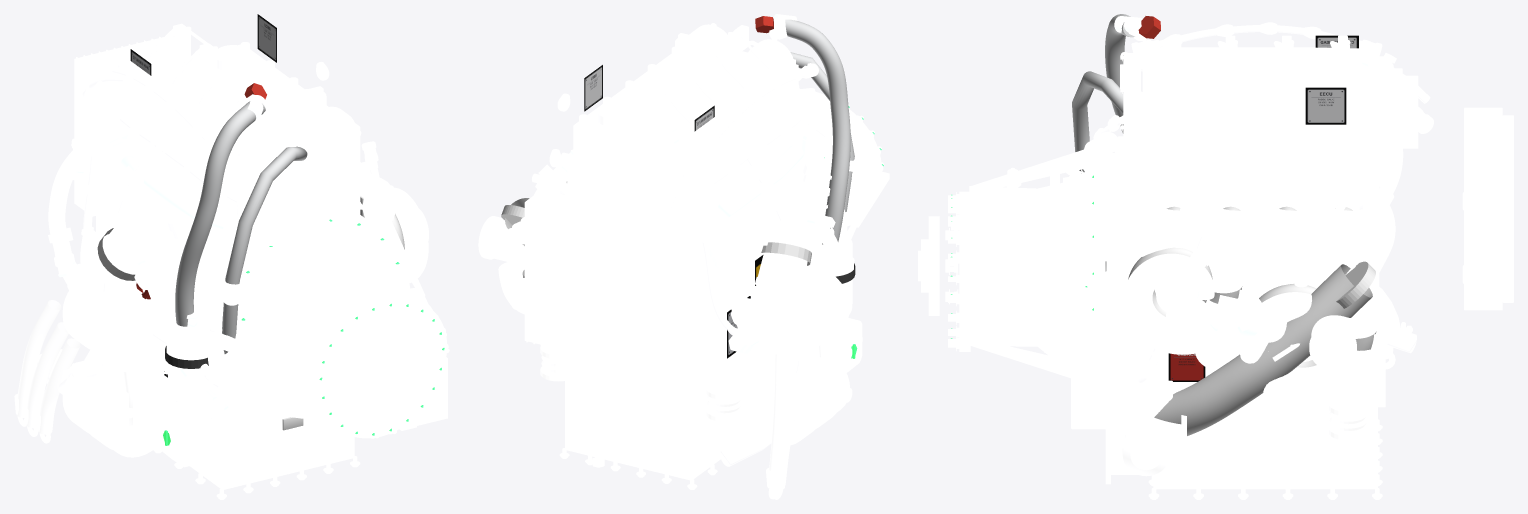
File: vrde_jayem_2_2l.glb
3 renders of one model, left to right at view 1: azimuth 30°, elevation 25°; view 2: azimuth 150°, elevation 25°; view 3: azimuth 270°, elevation 25°, orthographic. The views are drawn at different scales.
Parts seen in each view (by area): view 1: Gearbox_M_CastAluminium_0.001, Timing_Cover_Front_M_CastAluminium_0, Gearbox_FrontCover_M_CastAluminium_0, Valve_Cover_M_PlasticBlack_0.001, Oil_Sump_M_CastAluminium_0.001, Generator_2_M_CastAluminium_0, Generator_1_M_CastAluminium_0.001, Intermediate_Bellhousing_M_CastAluminium_0, Prop_Flange_M_Steel_0.001, Swept_C_Hose_M_BraidedSilver_0.001, Intake_Manifold_M_CastAluminium_0.001, Gearbox_Ribs_M_CastAluminium_0 (+38 smaller); view 2: Oil_Sump_M_CastAluminium_0.001, Engine_Block_M_CastAluminium_0.001, ECU_Lane_A_M_MetalPaintedBlack_0.001, Valve_Cover_M_PlasticBlack_0.001, ECU_Lane_B_M_MetalPaintedBlack_0.001, Swept_C_Hose_M_BraidedSilver_0.001, Cylinder_Head_M_CastAluminium_0.001, HP_Fuel_Pump_M_SteelDark_0.001, Generator_1_M_CastAluminium_0.001, Intercooler_M_CastAluminium_0.001, Generator_2_M_CastAluminium_0, Intake_Manifold_M_CastAluminium_0.001 (+35 smaller); view 3: Valve_Cover_M_PlasticBlack_0.001, Gearbox_M_CastAluminium_0.001, Oil_Sump_M_CastAluminium_0.001, Exhaust_Heat_Blanket_M_HeatShield_0, Cylinder_Head_M_CastAluminium_0.001, Exhaust_Downpipe_M_Stainless_0.001, ECU_Lane_A_M_MetalPaintedBlack_0.001, Starter_M_MetalPaintedBlack_0.001, Turbo_LP_CompressorVolute_M_MachinedAlloy_0, Intermediate_Bellhousing_M_CastAluminium_0, Turbo_HP_CompressorVolute_M_MachinedAlloy_0, Gearbox_Ribs_M_CastAluminium_0 (+34 smaller).
Part boxes in pixels (left/top/right/bottom): Gearbox_M_CastAluminium_0.001: left=220, top=225, right=432, bottom=432; Timing_Cover_Front_M_CastAluminium_0: left=237, top=106, right=360, bottom=226; Gearbox_FrontCover_M_CastAluminium_0: left=309, top=293, right=446, bottom=438; Valve_Cover_M_PlasticBlack_0.001: left=132, top=42, right=328, bottom=191; Oil_Sump_M_CastAluminium_0.001: left=163, top=374, right=354, bottom=489; Generator_2_M_CastAluminium_0: left=62, top=361, right=169, bottom=457; Generator_1_M_CastAluminium_0.001: left=62, top=279, right=163, bottom=372; Intermediate_Bellhousing_M_CastAluminium_0: left=198, top=204, right=410, bottom=446; Prop_Flange_M_Steel_0.001: left=348, top=324, right=436, bottom=417; Swept_C_Hose_M_BraidedSilver_0.001: left=175, top=101, right=265, bottom=326; Intake_Manifold_M_CastAluminium_0.001: left=95, top=165, right=229, bottom=287; Gearbox_Ribs_M_CastAluminium_0: left=245, top=204, right=428, bottom=426; Oil_Sump_M_CastAluminium_0.001: left=555, top=359, right=756, bottom=480; Engine_Block_M_CastAluminium_0.001: left=563, top=192, right=816, bottom=393; ECU_Lane_A_M_MetalPaintedBlack_0.001: left=507, top=189, right=635, bottom=296; Valve_Cover_M_PlasticBlack_0.001: left=573, top=46, right=791, bottom=172; ECU_Lane_B_M_MetalPaintedBlack_0.001: left=507, top=270, right=635, bottom=363; Swept_C_Hose_M_BraidedSilver_0.001: left=785, top=19, right=850, bottom=244; Cylinder_Head_M_CastAluminium_0.001: left=567, top=117, right=797, bottom=263; HP_Fuel_Pump_M_SteelDark_0.001: left=628, top=147, right=713, bottom=234; Generator_1_M_CastAluminium_0.001: left=765, top=267, right=849, bottom=364; Intercooler_M_CastAluminium_0.001: left=576, top=141, right=655, bottom=207; Generator_2_M_CastAluminium_0: left=756, top=349, right=849, bottom=445; Intake_Manifold_M_CastAluminium_0.001: left=698, top=158, right=828, bottom=251; Valve_Cover_M_PlasticBlack_0.001: left=1142, top=72, right=1374, bottom=168; Gearbox_M_CastAluminium_0.001: left=969, top=172, right=1099, bottom=361; Oil_Sump_M_CastAluminium_0.001: left=1153, top=342, right=1385, bottom=489; Exhaust_Heat_Blanket_M_HeatShield_0: left=1139, top=207, right=1363, bottom=258; Cylinder_Head_M_CastAluminium_0.001: left=1141, top=114, right=1376, bottom=237; Exhaust_Downpipe_M_Stainless_0.001: left=1154, top=264, right=1372, bottom=435; ECU_Lane_A_M_MetalPaintedBlack_0.001: left=1462, top=107, right=1513, bottom=236; Starter_M_MetalPaintedBlack_0.001: left=1062, top=351, right=1190, bottom=429; Turbo_LP_CompressorVolute_M_MachinedAlloy_0: left=1239, top=292, right=1382, bottom=407; Intermediate_Bellhousing_M_CastAluminium_0: left=1099, top=153, right=1139, bottom=359; Turbo_HP_CompressorVolute_M_MachinedAlloy_0: left=1123, top=253, right=1247, bottom=354; Gearbox_Ribs_M_CastAluminium_0: left=970, top=149, right=1096, bottom=378.
Bounding box in the file's own units: 58 × 68.2 × 84.85.
24 materials, 1 textured.
